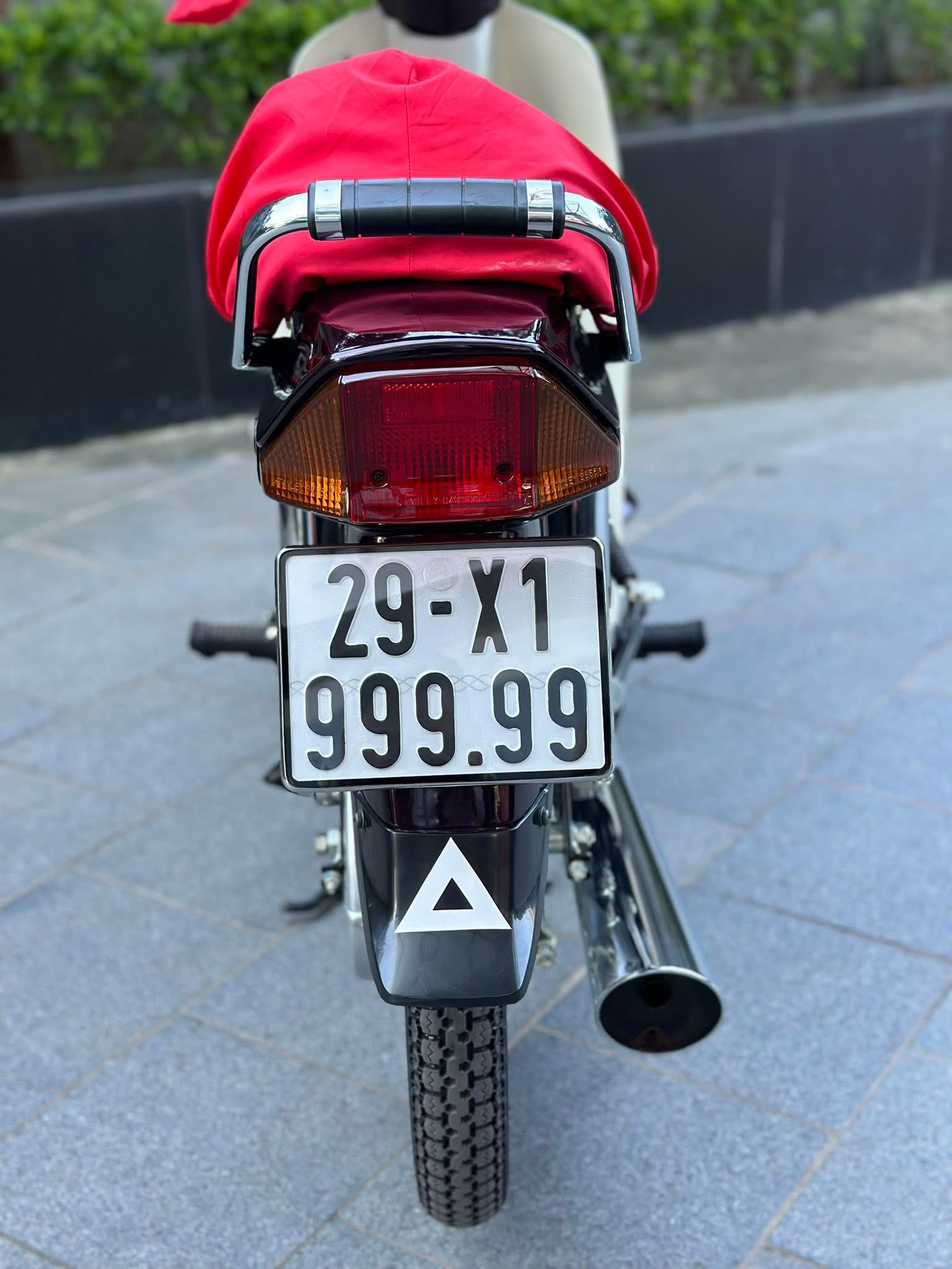bien_so: (265, 535, 630, 796)
